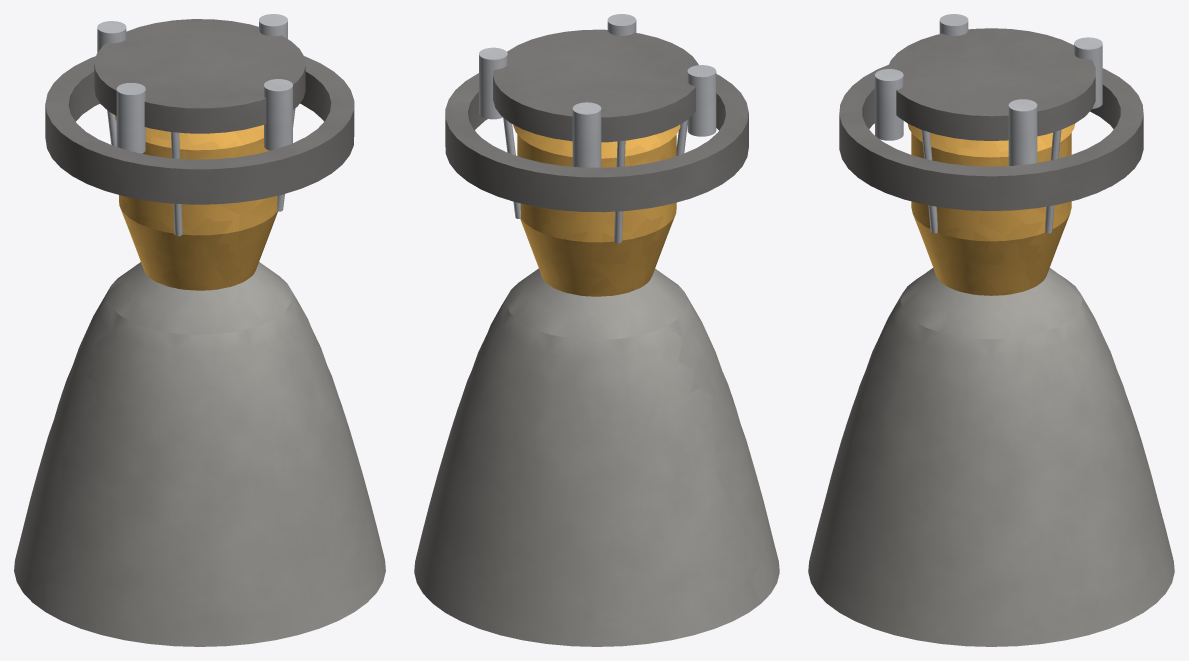
File: prop19_descent_engine_m.glb
The picture shows the model from 3 angles, left to right: view 1: azimuth 30°, elevation 25°; view 2: azimuth 150°, elevation 25°; view 3: azimuth 270°, elevation 25°; orthographic projection.
Visible parts, largest first — view 1: bell, gimbal_ring, mount, chamber, throttle_valves, injector_dome, thrust_struts; view 2: bell, mount, gimbal_ring, chamber, throttle_valves, injector_dome, thrust_struts; view 3: bell, mount, gimbal_ring, chamber, throttle_valves, injector_dome, thrust_struts.
Boxes of the visible parts, box(x1,y1,x2,y2) form: bell: box(14, 262, 385, 646); gimbal_ring: box(45, 56, 354, 204); mount: box(94, 19, 305, 133); chamber: box(119, 138, 277, 290); throttle_valves: box(97, 14, 292, 153); injector_dome: box(115, 115, 263, 150); thrust_struts: box(107, 108, 295, 236); bell: box(414, 268, 779, 646); mount: box(493, 29, 698, 142); gimbal_ring: box(445, 73, 748, 212); chamber: box(517, 134, 676, 296); throttle_valves: box(479, 14, 716, 167); injector_dome: box(513, 124, 680, 158); thrust_struts: box(503, 117, 687, 243); bell: box(808, 268, 1174, 646); mount: box(887, 28, 1095, 140); gimbal_ring: box(839, 65, 1143, 210); chamber: box(911, 132, 1071, 295); throttle_valves: box(875, 14, 1102, 165); injector_dome: box(908, 124, 1074, 157); thrust_struts: box(921, 130, 1061, 233).
Size of the model in its own units: 1.54 by 2.35 by 1.54.
Materials: 4 (4 with a texture image).
